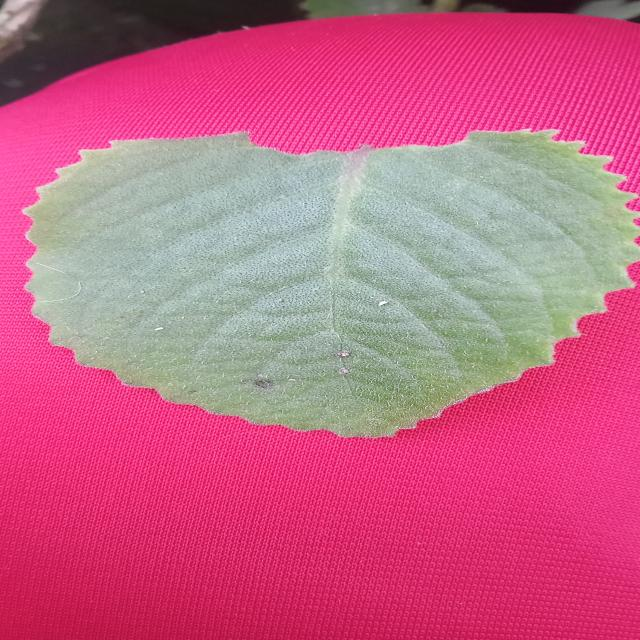Oregano: (11, 120, 640, 452)
